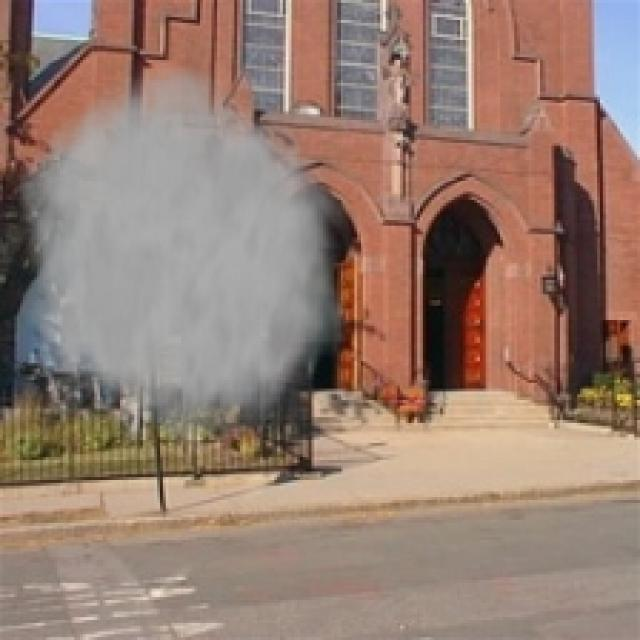smoke: (6, 51, 348, 466)
